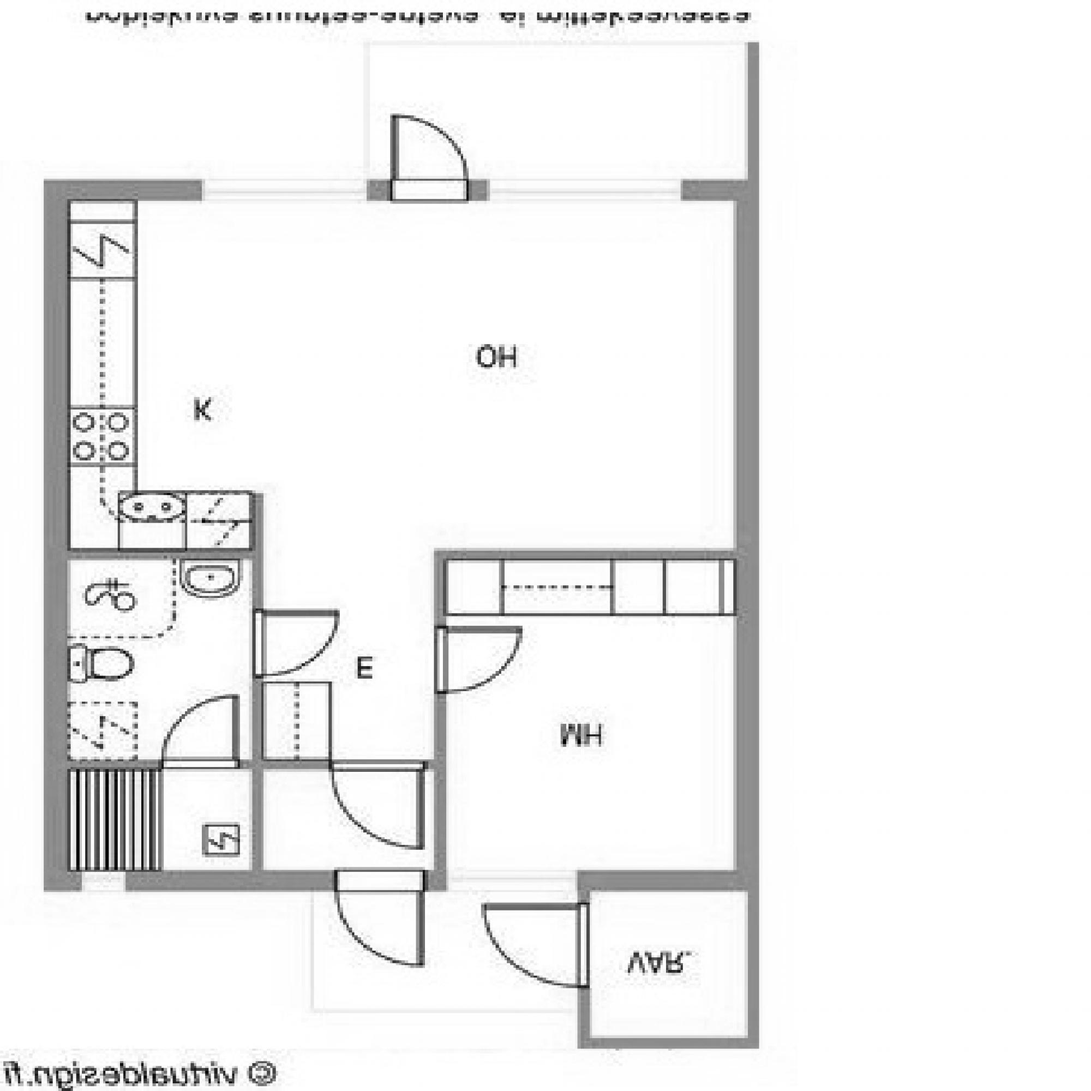wall: (734, 178, 759, 893), (44, 178, 68, 893), (44, 870, 759, 893), (44, 179, 759, 201), (253, 491, 264, 892), (44, 759, 435, 769), (435, 549, 446, 892), (434, 550, 759, 559), (747, 870, 759, 1048), (579, 870, 590, 1048), (44, 550, 253, 559), (747, 41, 759, 179), (579, 1039, 759, 1048)
